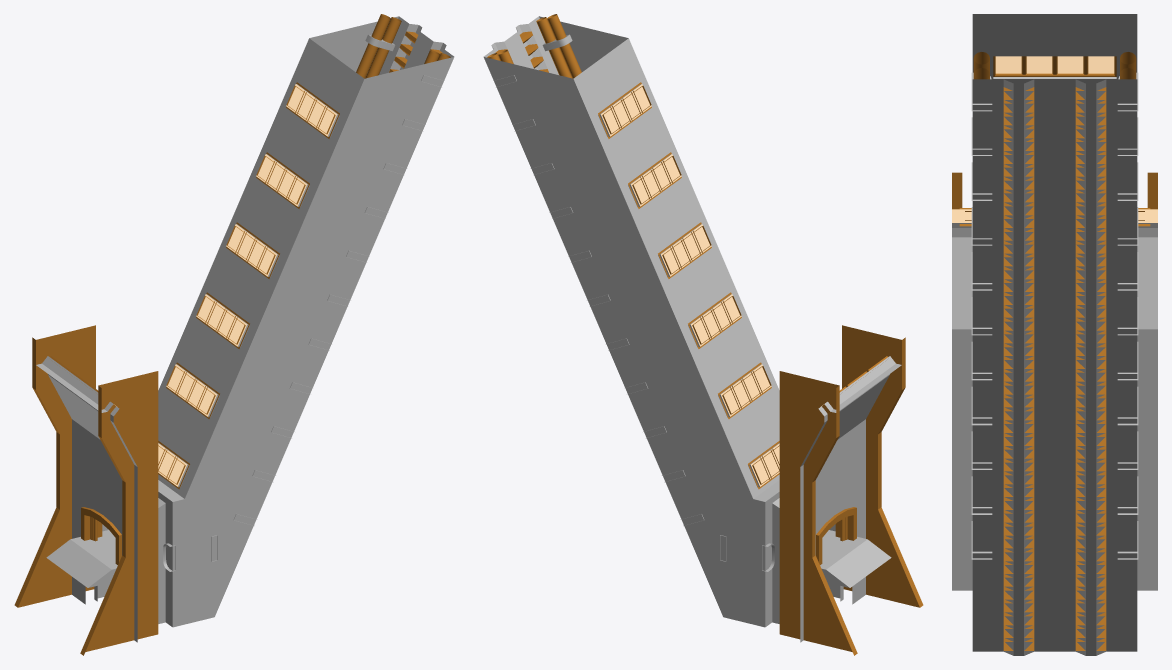
The model's file is wallDoor.glb.
3 renders of one model, left to right at view 1: azimuth 30°, elevation 25°; view 2: azimuth 150°, elevation 25°; view 3: azimuth 270°, elevation 25°, orthographic. The views are drawn at different scales.
Parts seen in each view (by area): view 1: elevatorShaft, wallDoor; view 2: elevatorShaft, wallDoor; view 3: elevatorShaft, wallDoor, elevator.
Boxes of the visible parts, x1,y1,x2,y2 form: elevatorShaft: (94,14,454,627); wallDoor: (14,325,158,655); elevatorShaft: (483,14,843,627); wallDoor: (779,325,923,655); elevatorShaft: (971,14,1138,655); wallDoor: (952,172,1157,590); elevator: (998,580,1111,612).
Bounding box in the file's own units: 64 × 81.34 × 20.
